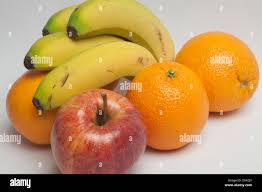apple: (48, 88, 146, 173)
banana: (19, 1, 180, 112)
orange: (126, 63, 215, 154), (172, 27, 261, 116), (7, 71, 79, 148)
